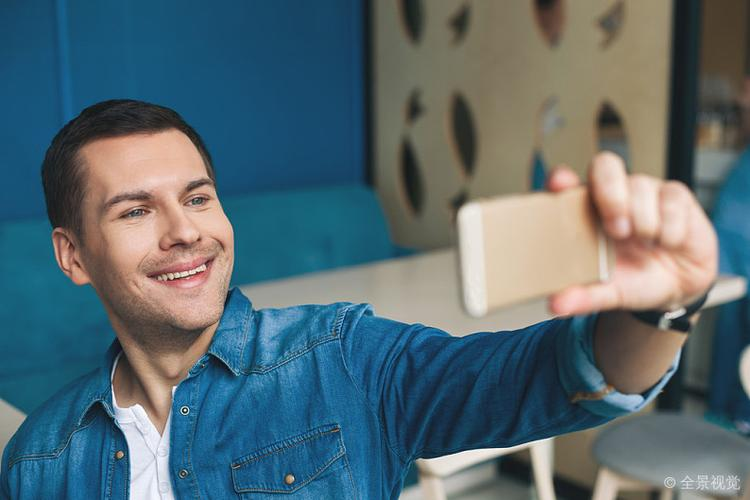taking photos: (446, 148, 722, 325)
